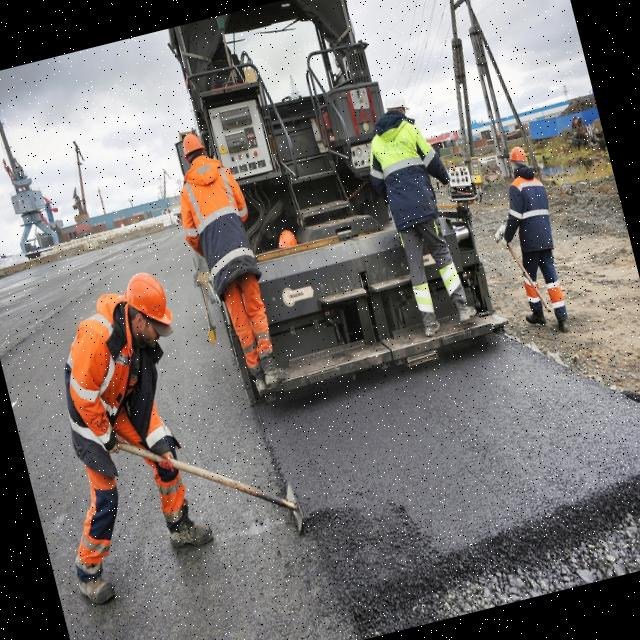Helmet: (121, 268, 174, 333), (179, 132, 207, 162), (383, 88, 410, 114), (508, 145, 529, 166), (277, 229, 298, 249)
Jacket: (61, 299, 162, 451), (181, 158, 251, 285), (372, 120, 437, 224), (506, 171, 558, 252)
